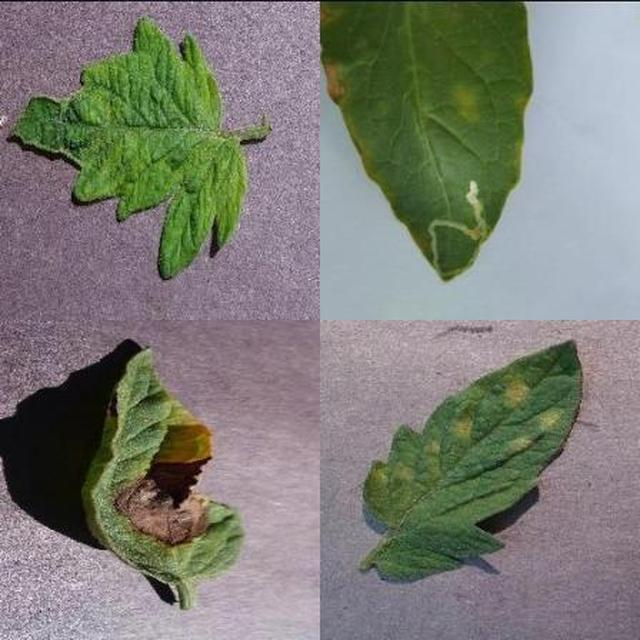Mosaic Virus Leaf: (181, 204, 640, 640)
